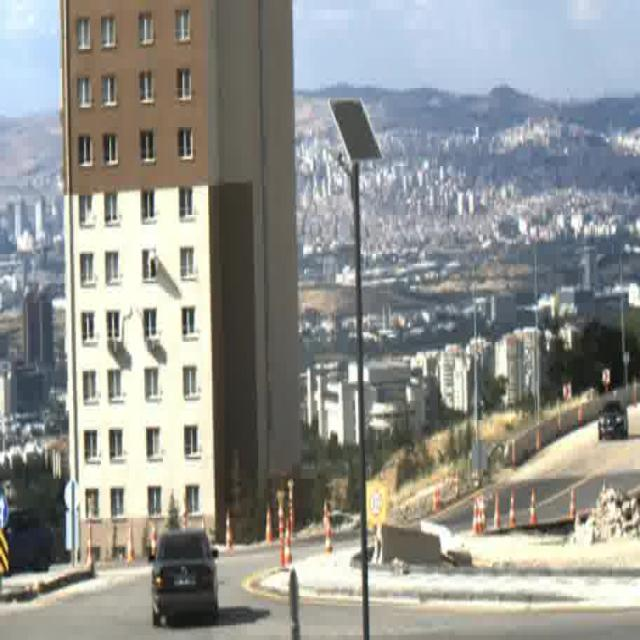Car: (153, 529, 218, 626), (5, 508, 50, 572), (598, 399, 629, 441)
